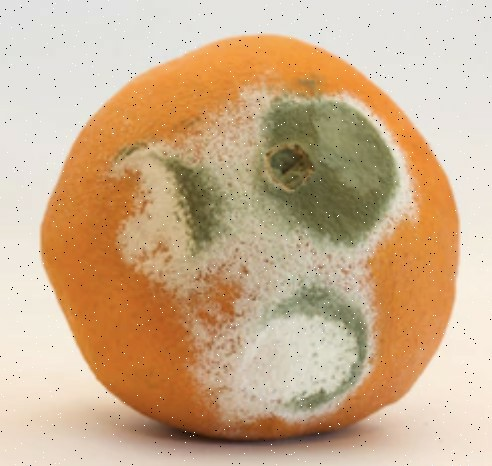rotten_orange: (42, 35, 463, 441)
